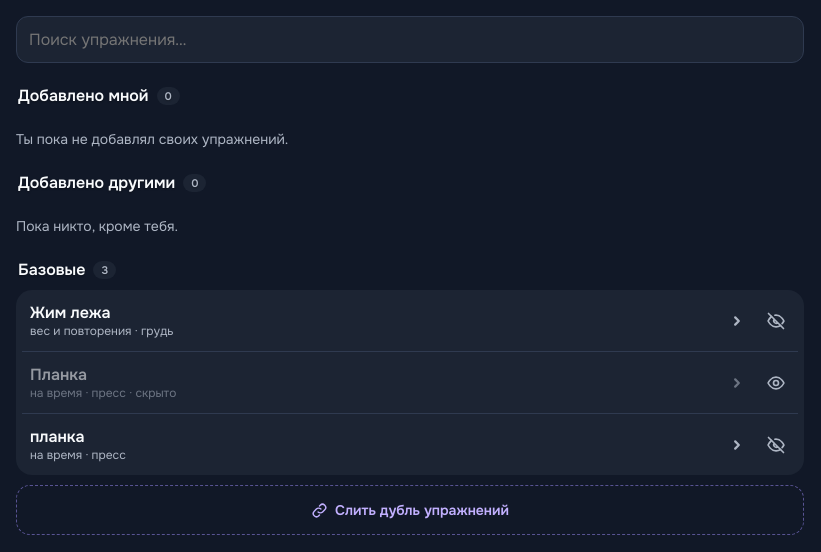
Test: ExercisesSection › разделы и поиск без учета «ё»; скрытые видны с пометкой; пусто — «Ничего не найдено»
Expected: the text "Базовые" is shown, x1=18 y1=259 x2=85 y2=280
Expected: the button "Планка на время · пресс · скрыто" is shown, x1=22 y1=352 x2=754 y2=413
Step 1. Type "ЖИМ" into the search field labelled "Поиск упражнения" → (410, 40), box x1=16 y1=16 x2=804 y2=63
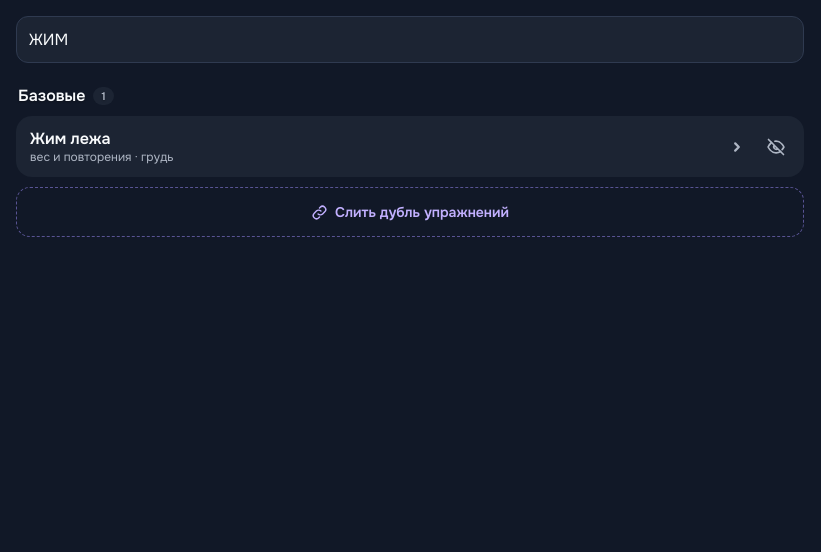
Expected: the text "Жим лежа" is shown, x1=30 y1=128 x2=110 y2=149
Expected: the button "Планка" is gone
Step 2. Replace the text in the search field named "Поиск упражнения" with "ёжик" → (410, 40), box x1=16 y1=16 x2=804 y2=63
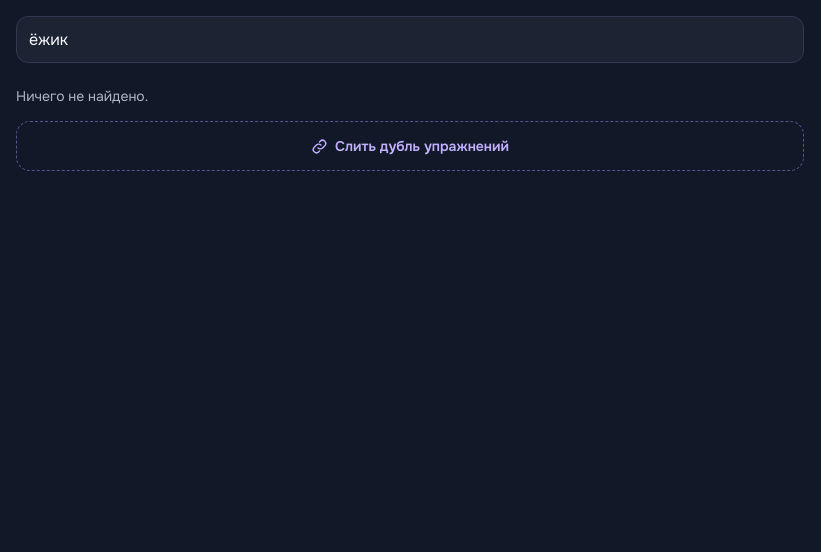
Expected: the text "Ничего не найдено." is shown, x1=16 y1=87 x2=148 y2=105
